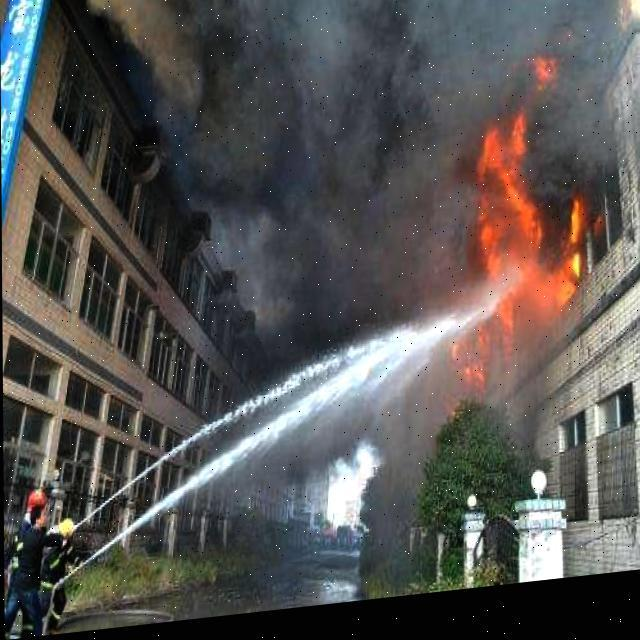Fire: (456, 59, 594, 357)
